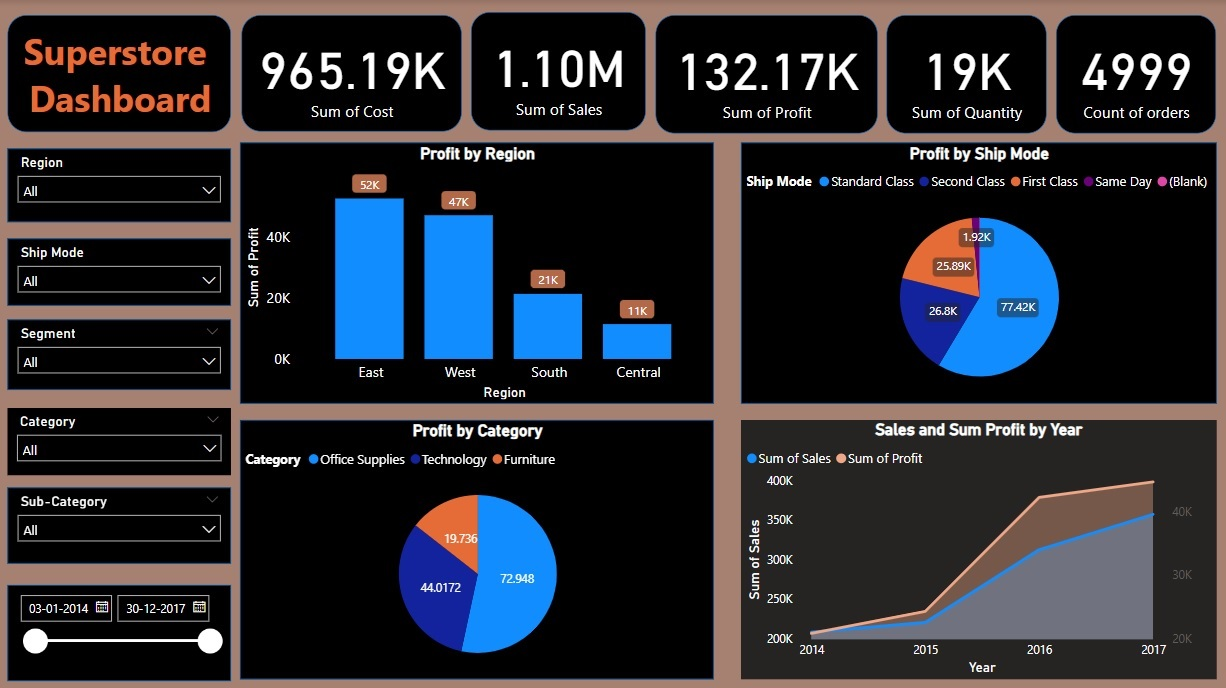

What the dashboard file says about the page in this screenshot:
{"tool":"powerbi","page":{"name":"Overview 2","canvas":[1280,720],"ordinal":1},"visuals":[{"type":"textbox","box":[7.8,15.6,232.7,121.8],"z":0},{"type":"slicer","fields":{"Values":["Sample - Superstore.Region"]},"box":[7.8,154.6,232.7,76.5],"z":1000},{"type":"slicer","fields":{"Values":["Sample - Superstore.Order Date"]},"box":[7.8,609.1,232.7,100],"z":2000},{"type":"slicer","fields":{"Values":["Shipment.Ship Mode"]},"box":[7.8,248.3,232.7,70.3],"z":3000},{"type":"card","fields":{"Values":["Sum(Sample - Superstore.Sales)"]},"box":[490.1,13.3,181.8,123.1],"z":4000},{"type":"card","fields":{"Values":["Sum(Sample - Superstore.Profit)"]},"box":[682.1,15.1,231,123.1],"z":5000},{"type":"card","fields":{"Values":["Sum(Sample - Superstore.Quantity)"]},"box":[923.3,15.1,166.6,123.1],"z":6000},{"type":"slicer","fields":{"Values":["Category.Category"]},"box":[7.8,424.8,232.7,70.3],"z":7000},{"type":"areaChart","title":"Sales and Sum Profit by Year","fields":{"Category":["Sample - Superstore.Order Date.Variation.Date Hierarchy.Year","Sample - Superstore.Order Date.Variation.Date Hierarchy.Quarter","Sample - Superstore.Order Date.Variation.Date Hierarchy.Month","Sample - Superstore.Order Date.Variation.Date Hierarchy.Day"],"Y":["Sum(Sample - Superstore.Sales)"],"Y2":["Sum(Sample - Superstore.Profit)"]},"box":[771.5,437.3,495.1,270.2],"z":8000},{"type":"card","fields":{"Values":["Category.Count of orders"]},"box":[1099.5,15.6,167.1,123.4],"z":9000},{"type":"card","fields":{"Values":["Category.Cost_Measure"]},"box":[250.7,15.1,229.1,121.2],"z":10000},{"type":"slicer","fields":{"Values":["Sample - Superstore.Segment"]},"box":[7.8,332.7,232.7,73.4],"z":11000},{"type":"slicer","fields":{"Values":["Sample - Superstore.Sub-Category"]},"box":[7.8,507.6,232.7,79.7],"z":12000},{"type":"clusteredColumnChart","title":"Profit by Region","fields":{"Category":["Sample - Superstore.Region"],"Y":["Sum(Sample - Superstore.Profit)"]},"box":[249.9,148.4,493.5,271.8],"z":13000},{"type":"pieChart","title":"Profit by Category","fields":{"Category":["Category.Category"],"Y":["Sum(Sample - Superstore (2).Profit)"]},"box":[249.9,437.3,493.5,270.2],"z":14000},{"type":"pieChart","title":"Profit by Ship Mode","fields":{"Y":["Sum(Sample - Superstore.Profit)"],"Category":["Shipment.Ship Mode"]},"box":[771.5,148.4,495.1,271.8],"z":15000}]}

Visuals, with their boxes in screenshot pixels (x1, y1, x2, y2), scaled from the page's 1280x720 canvas onto the 1226x688 screenshot:
textbox: [left=7, top=15, right=230, bottom=131]
slicer - Sample - Superstore.Region: [left=7, top=148, right=230, bottom=221]
slicer - Sample - Superstore.Order Date: [left=7, top=582, right=230, bottom=678]
slicer - Shipment.Ship Mode: [left=7, top=237, right=230, bottom=304]
card - Sum(Sample - Superstore.Sales): [left=469, top=13, right=644, bottom=130]
card - Sum(Sample - Superstore.Profit): [left=653, top=14, right=875, bottom=132]
card - Sum(Sample - Superstore.Quantity): [left=884, top=14, right=1044, bottom=132]
slicer - Category.Category: [left=7, top=406, right=230, bottom=473]
"Sales and Sum Profit by Year" areaChart: [left=739, top=418, right=1213, bottom=676]
card - Category.Count of orders: [left=1053, top=15, right=1213, bottom=133]
card - Category.Cost_Measure: [left=240, top=14, right=460, bottom=130]
slicer - Sample - Superstore.Segment: [left=7, top=318, right=230, bottom=388]
slicer - Sample - Superstore.Sub-Category: [left=7, top=485, right=230, bottom=561]
"Profit by Region" clusteredColumnChart: [left=239, top=142, right=712, bottom=402]
"Profit by Category" pieChart: [left=239, top=418, right=712, bottom=676]
"Profit by Ship Mode" pieChart: [left=739, top=142, right=1213, bottom=402]
